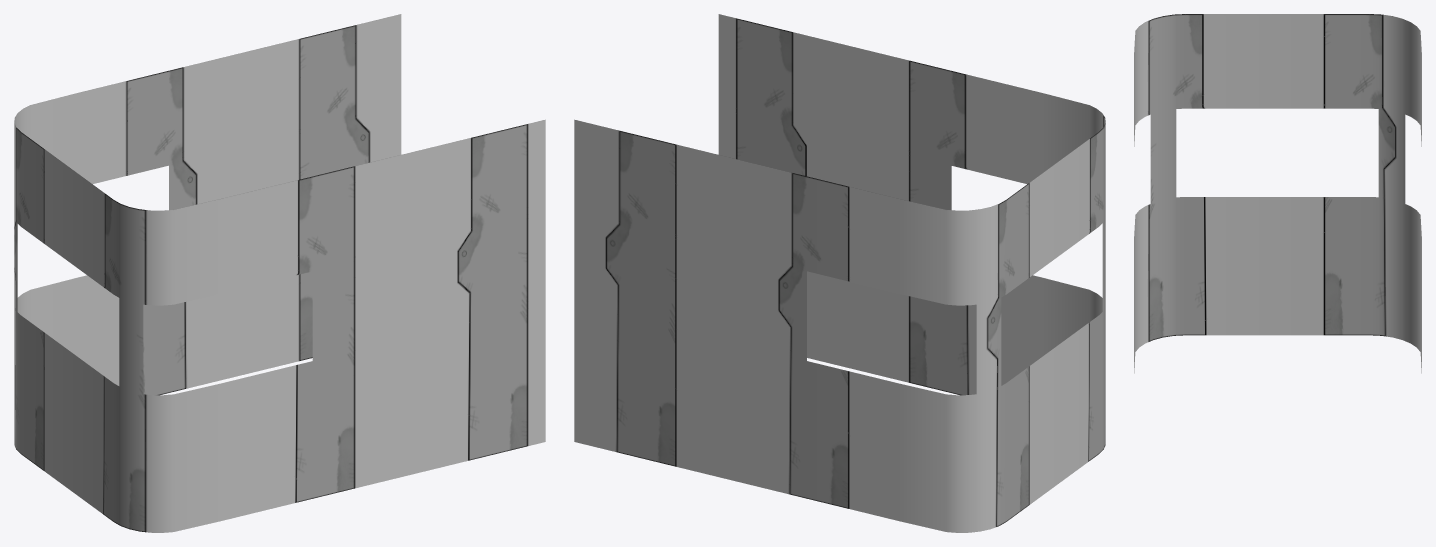
The model's file is scene_niveau_1_V2_murs_seul.fbx.
3 renders of one model, left to right at view 1: azimuth 30°, elevation 25°; view 2: azimuth 150°, elevation 25°; view 3: azimuth 270°, elevation 25°, orthographic.
Visible parts, largest first — view 1: mur; view 2: mur; view 3: mur.
Boxes of the visible parts, bbox=[...] form: mur: bbox=[14, 14, 545, 532]; mur: bbox=[574, 14, 1105, 532]; mur: bbox=[1134, 14, 1421, 373].
Bounding box in the file's own units: 488 × 370 × 300.
Materials: 1 (1 with a texture image).
